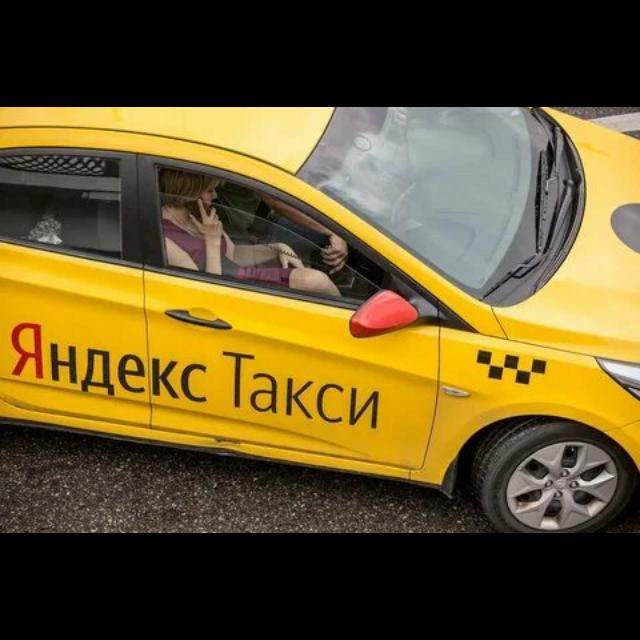taxi: (2, 109, 639, 534)
